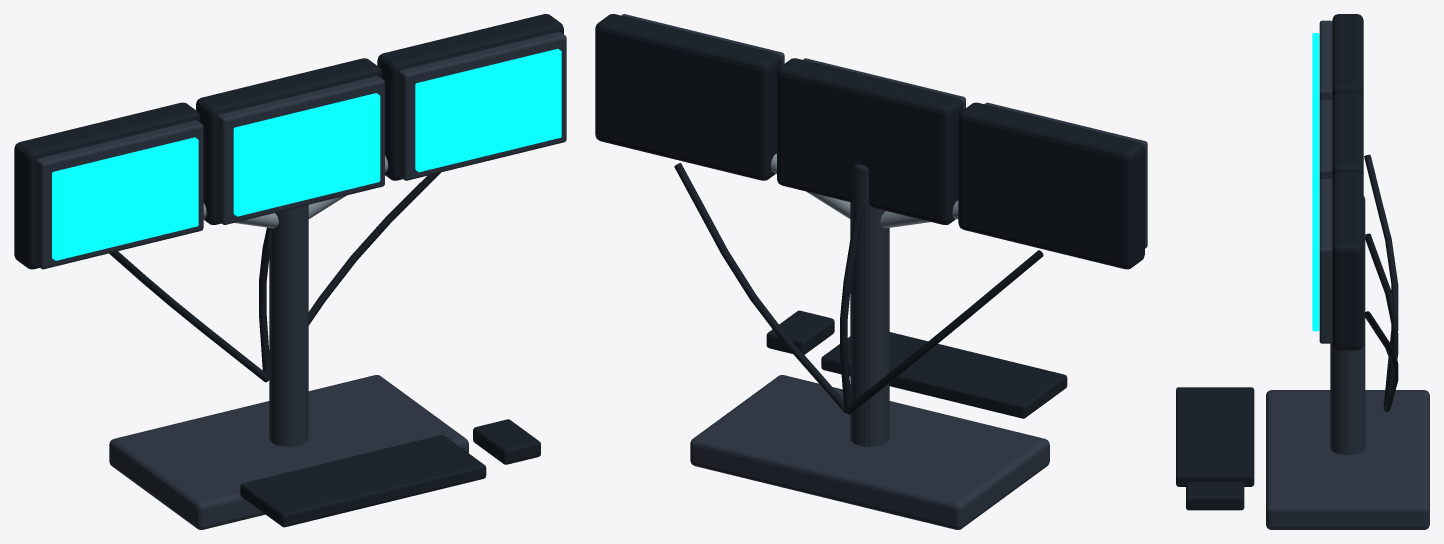
File: prop_security_monitor_wall_a_v01.glb
The picture shows the model from 3 angles, left to right: view 1: azimuth 30°, elevation 25°; view 2: azimuth 150°, elevation 25°; view 3: azimuth 270°, elevation 25°; orthographic projection. The views are drawn at different scales.
Visible parts, largest first — view 1: component__desk_or_mounting_base__mounting_base, component__multiple_displays__display.002, component__multiple_displays__display.001, component__multiple_displays__display, component__input_devices__keyboard, component__monitor_arms__central_monitor_post, component__rear_housings__rear_housing.001, component__bezels__display_bezel, component__bezels__display_bezel.001, component__bezels__display_bezel.002, component__rear_housings__rear_housing, component__rear_housings__rear_housing.002 (+4 smaller); view 2: component__desk_or_mounting_base__mounting_base, component__rear_housings__rear_housing.001, component__rear_housings__rear_housing, component__rear_housings__rear_housing.002, component__monitor_arms__central_monitor_post, component__input_devices__keyboard, component__cables__monitor_cable, component__cables__monitor_cable.001, component__input_devices__mouse, component__cables__monitor_cable.002, component__bezels__display_bezel.001; view 3: component__desk_or_mounting_base__mounting_base, component__input_devices__keyboard, component__rear_housings__rear_housing, component__monitor_arms__central_monitor_post, component__rear_housings__rear_housing.002, component__rear_housings__rear_housing.001, component__bezels__display_bezel, component__input_devices__mouse, component__cables__monitor_cable.001, component__multiple_displays__display, component__bezels__display_bezel.001, component__bezels__display_bezel.002 (+4 smaller).
Part boxes in pixels (x1,y1,x2,y2): component__desk_or_mounting_base__mounting_base: (109,375,468,529); component__multiple_displays__display.002: (233,93,380,216); component__multiple_displays__display.001: (52,137,198,260); component__multiple_displays__display: (415,48,561,172); component__input_devices__keyboard: (240,435,486,527); component__monitor_arms__central_monitor_post: (269,205,308,446); component__rear_housings__rear_housing.001: (14,102,200,269); component__bezels__display_bezel: (398,31,566,180); component__bezels__display_bezel.001: (35,120,203,269); component__bezels__display_bezel.002: (217,76,384,224); component__rear_housings__rear_housing: (377,14,563,180); component__rear_housings__rear_housing.002: (196,58,382,224); component__desk_or_mounting_base__mounting_base: (690,375,1049,529); component__rear_housings__rear_housing.001: (958,102,1144,269); component__rear_housings__rear_housing: (595,14,781,180); component__rear_housings__rear_housing.002: (777,58,963,224); component__monitor_arms__central_monitor_post: (850,164,889,446); component__input_devices__keyboard: (821,332,1067,418); component__cables__monitor_cable: (674,163,846,413); component__cables__monitor_cable.001: (846,250,1043,414); component__input_devices__mouse: (766,310,834,354); component__cables__monitor_cable.002: (840,208,862,412); component__bezels__display_bezel.001: (984,102,1147,248); component__desk_or_mounting_base__mounting_base: (1266,390,1429,529); component__input_devices__keyboard: (1176,387,1254,486); component__rear_housings__rear_housing: (1332,172,1363,350); component__monitor_arms__central_monitor_post: (1330,196,1365,454); component__rear_housings__rear_housing.002: (1332,93,1363,178); component__rear_housings__rear_housing.001: (1332,14,1363,98); component__bezels__display_bezel: (1319,179,1332,343); component__input_devices__mouse: (1186,482,1244,510); component__cables__monitor_cable.001: (1364,154,1398,406); component__multiple_displays__display: (1312,191,1319,331); component__bezels__display_bezel.001: (1319,20,1332,101); component__bezels__display_bezel.002: (1319,100,1332,180).
Bounding box in the file's own units: 1.42 × 0.97 × 0.65.
